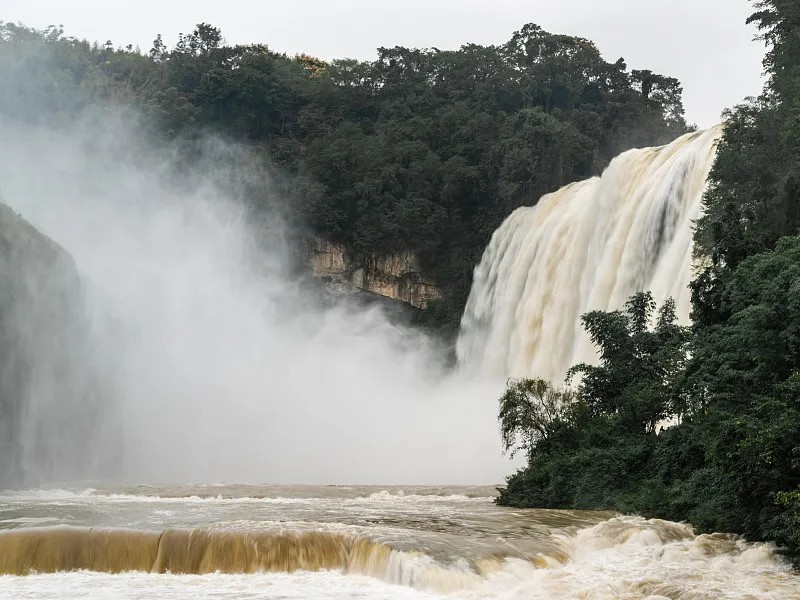Huangguoshu: (450, 124, 726, 380)
